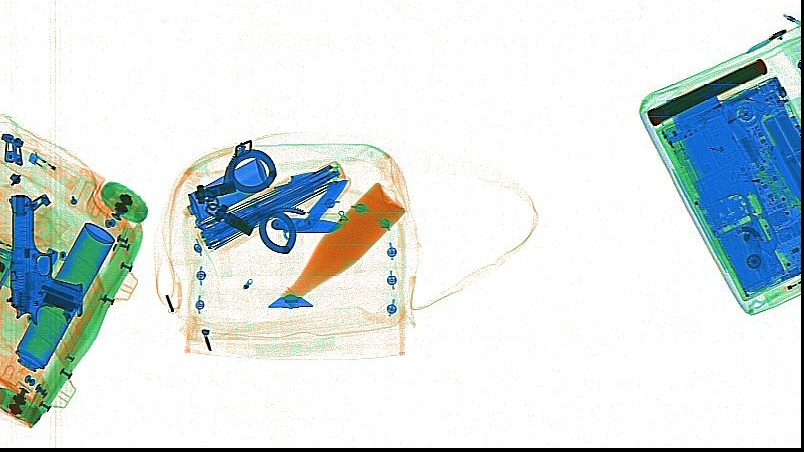handcuffs: (196, 147, 305, 252)
knife: (670, 89, 778, 254), (300, 175, 351, 229), (270, 213, 342, 233)
pressure: (13, 220, 115, 371)
zippooil: (181, 158, 269, 221)
